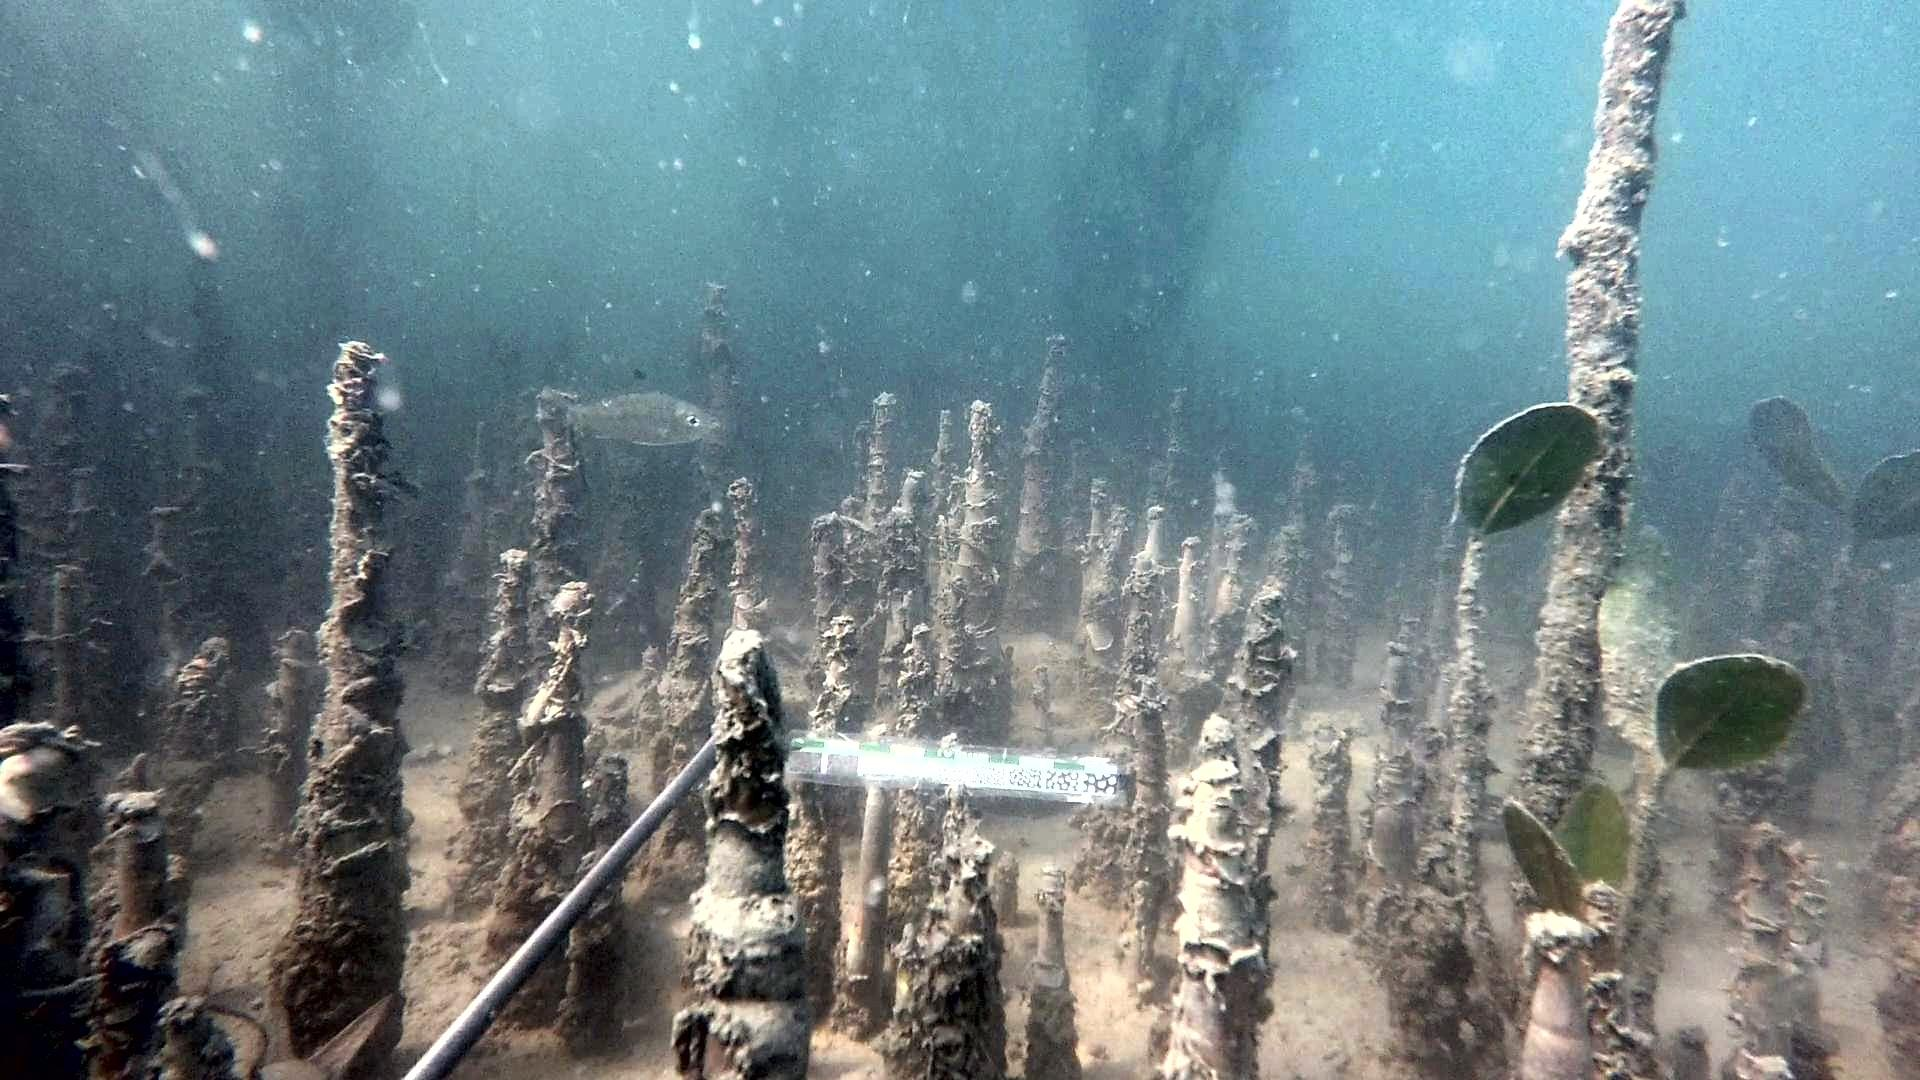gerres: (537, 364, 721, 447)
